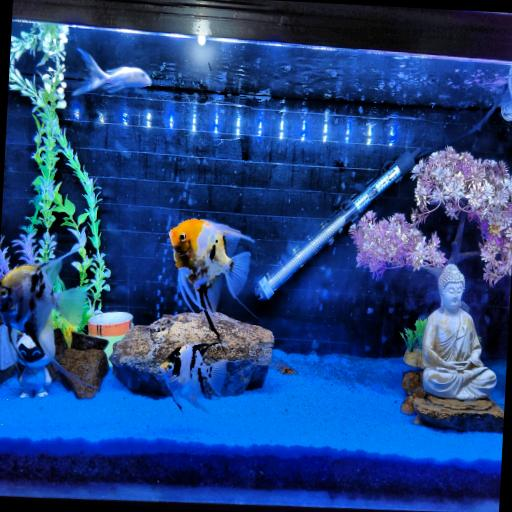Fish: (0, 245, 90, 385), (169, 219, 253, 340), (161, 343, 226, 409), (73, 48, 151, 95)
